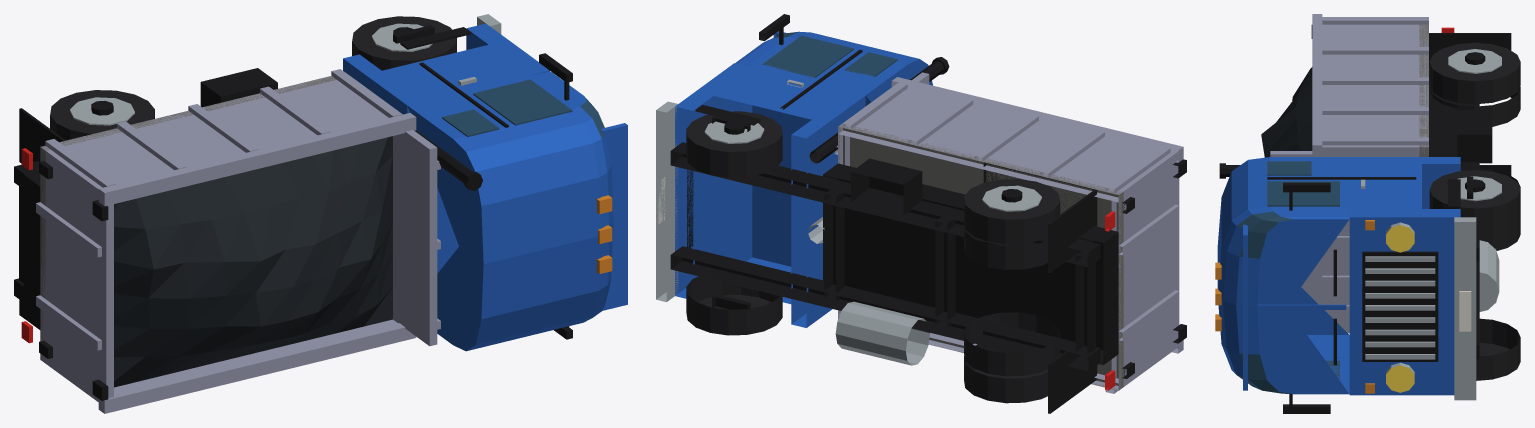
The model's file is loaded.glb.
The picture shows the model from 3 angles, left to right: view 1: azimuth 30°, elevation 25°; view 2: azimuth 150°, elevation 25°; view 3: azimuth 270°, elevation 25°; orthographic projection. The views are drawn at different scales.
Parts seen in each view (by area): view 1: loaded_load, loaded_bed, loaded_cab_upper, loaded_headboard, loaded_cab_arch, loaded_rear_out1, loaded_front1, loaded_visor, loaded_side_window1, loaded_subframe, loaded_cab_back, loaded_battery_box (+5 smaller); view 2: loaded_bed, loaded_subframe, loaded_cab_arch, loaded_chassis-1, loaded_cab_front, loaded_chassis1, loaded_cab_back, loaded_rear_out1, loaded_front1, loaded_cab_upper, loaded_fuel_tank, loaded_front-1 (+15 smaller); view 3: loaded_cab_upper, loaded_bed, loaded_cab_front, loaded_grille, loaded_rear_out1, loaded_bumper, loaded_front1, loaded_cab_arch, loaded_load, loaded_front-1, loaded_battery_box, loaded_subframe (+28 smaller).
Boxes of the visible parts, x1,y1,x2,y2 form: loaded_load: (114,136,392,387); loaded_bed: (36,69,416,413); loaded_cab_upper: (407,72,613,351); loaded_headboard: (404,130,437,346); loaded_cab_arch: (382,44,530,273); loaded_rear_out1: (50,90,154,140); loaded_front1: (352,16,456,70); loaded_visor: (601,123,627,310); loaded_side_window1: (473,79,572,125); loaded_subframe: (23,171,40,319); loaded_cab_back: (343,54,423,114); loaded_battery_box: (200,68,277,107); loaded_bed: (838,77,1183,393); loaded_subframe: (823,163,1118,365); loaded_cab_arch: (713,67,849,304); loaded_chassis-1: (670,246,1100,371); loaded_cab_front: (675,63,752,298); loaded_chassis1: (670,142,1100,267); loaded_cab_back: (791,91,865,327); loaded_rear_out1: (964,179,1060,244); loaded_front1: (686,111,782,177); loaded_cab_upper: (735,31,932,105); loaded_fuel_tank: (835,301,929,365); loaded_front-1: (686,276,782,335); loaded_cab_upper: (1217,157,1349,394); loaded_bed: (1312,14,1428,333); loaded_cab_front: (1349,209,1460,395); loaded_grille: (1362,251,1438,361); loaded_rear_out1: (1429,42,1520,104); loaded_bumper: (1454,217,1476,400); loaded_front1: (1429,170,1520,232); loaded_cab_arch: (1349,164,1421,208); loaded_load: (1261,67,1312,157); loaded_front-1: (1476,318,1520,380); loaded_battery_box: (1457,110,1492,163); loaded_subframe: (1429,65,1457,156).
Size of the model in its own units: 7.65 by 3.98 by 4.82.
